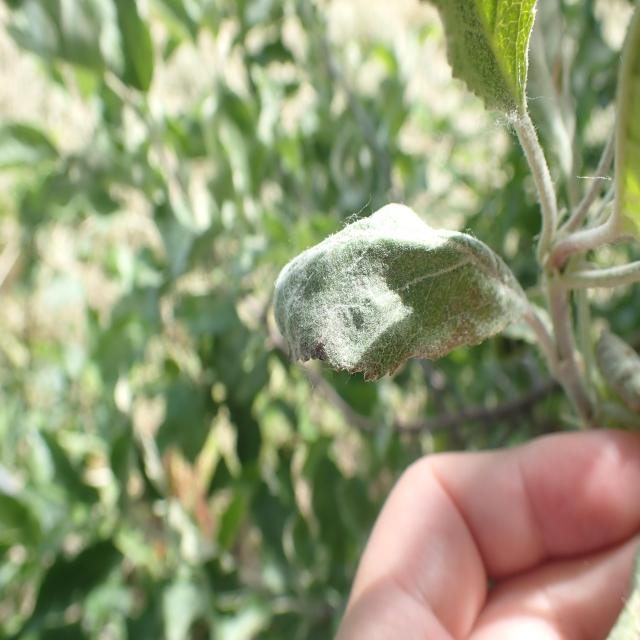Powdery_mildew: (252, 200, 549, 386), (406, 0, 558, 177), (594, 0, 640, 258)
